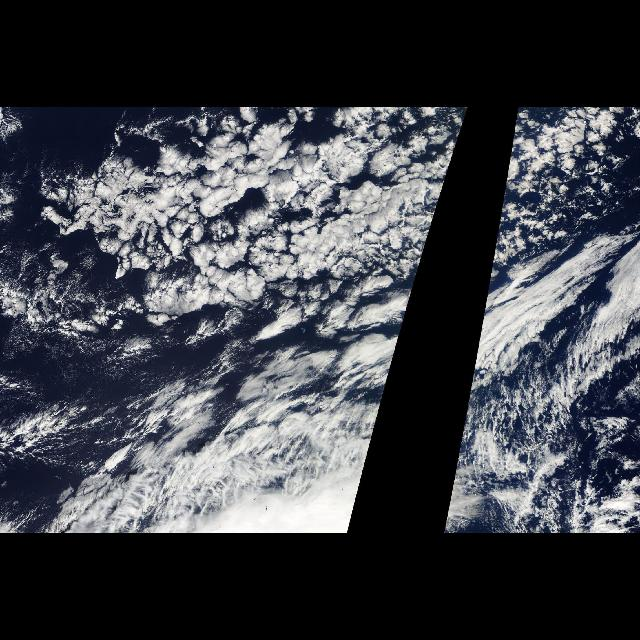Flower: (24, 114, 464, 316), (482, 120, 612, 308)
